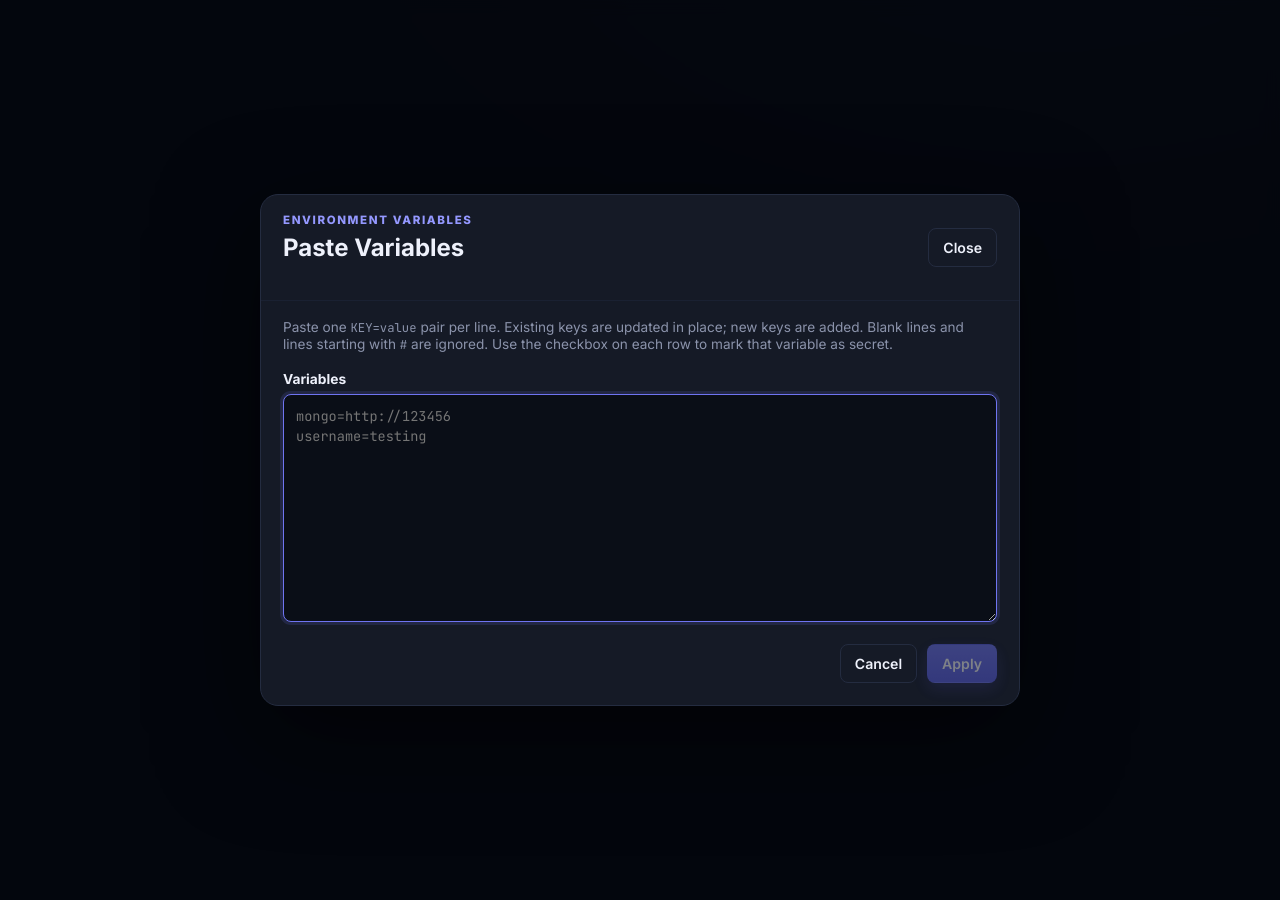
it: BulkEnvVarDialog › strips matching surrounding quotes from a pasted value
In the text box with placeholder "mongo=http://123456 username=testing": (640, 508) x1=283 y1=394 x2=997 y2=622, type "QUOTED=\"hello world\""
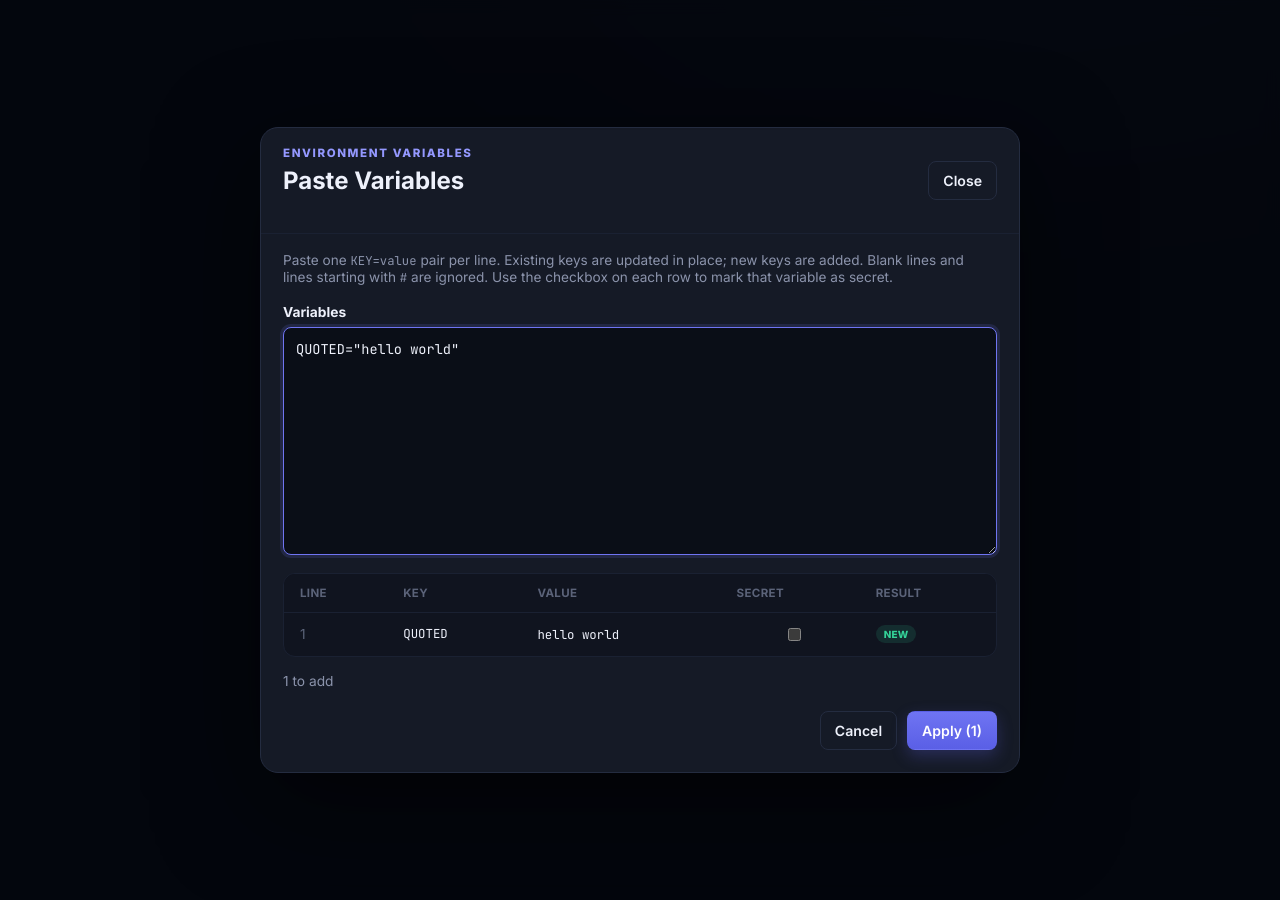
Result: the text "hello world" is shown at x1=537 y1=626 x2=619 y2=643
